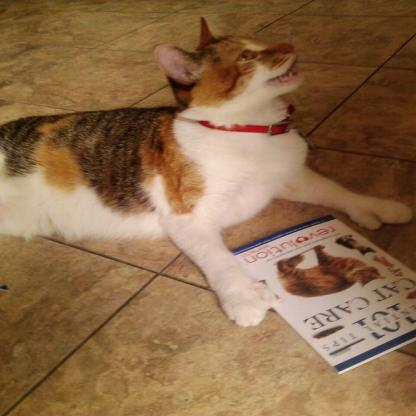Target: (0, 19, 412, 325)
